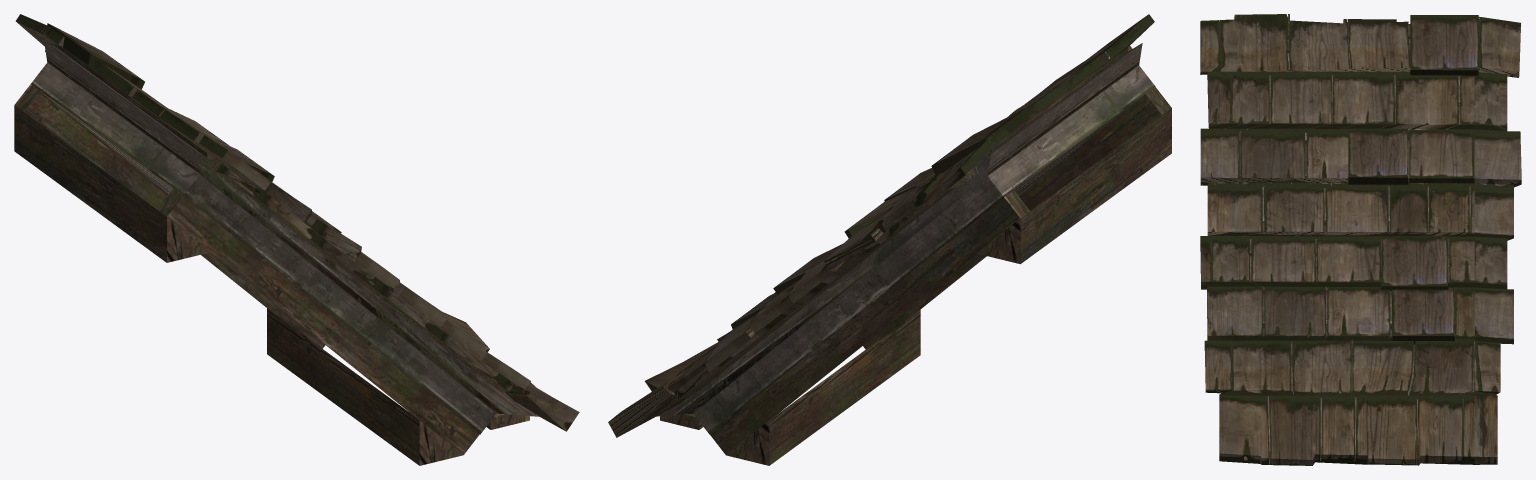
3 views of the same model, side by side, from view 1: azimuth 30°, elevation 25°; view 2: azimuth 150°, elevation 25°; view 3: azimuth 270°, elevation 25° (orthographic). The views are drawn at different scales.
Visible parts, largest first — view 1: SM_T1_Roof_Med_LOD0; view 2: SM_T1_Roof_Med_LOD0; view 3: SM_T1_Roof_Med_LOD0.
Part boxes in pixels (left/top/right/bottom): SM_T1_Roof_Med_LOD0: left=14, top=14, right=579, bottom=465; SM_T1_Roof_Med_LOD0: left=608, top=14, right=1171, bottom=465; SM_T1_Roof_Med_LOD0: left=1200, top=14, right=1521, bottom=465.
Bounding box in the file's own units: 2.36 × 2.09 × 1.96.
Materials: 3 (3 with a texture image).
